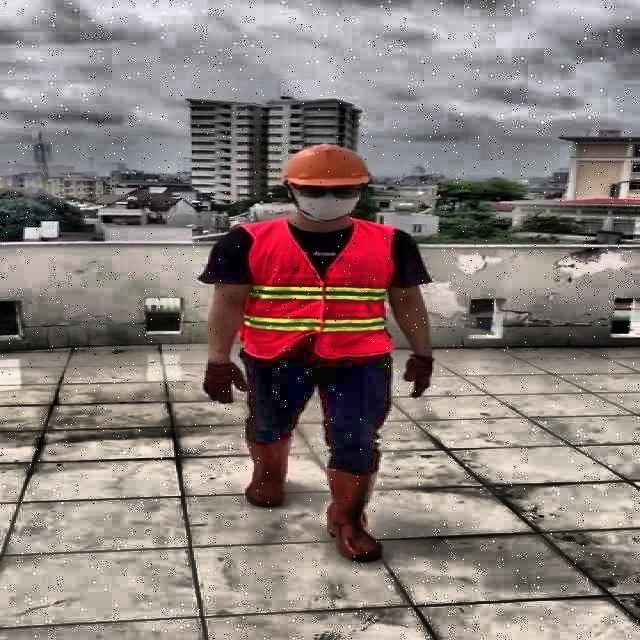safety_helmet: (280, 142, 374, 188)
safety_jacket: (242, 223, 392, 361)
